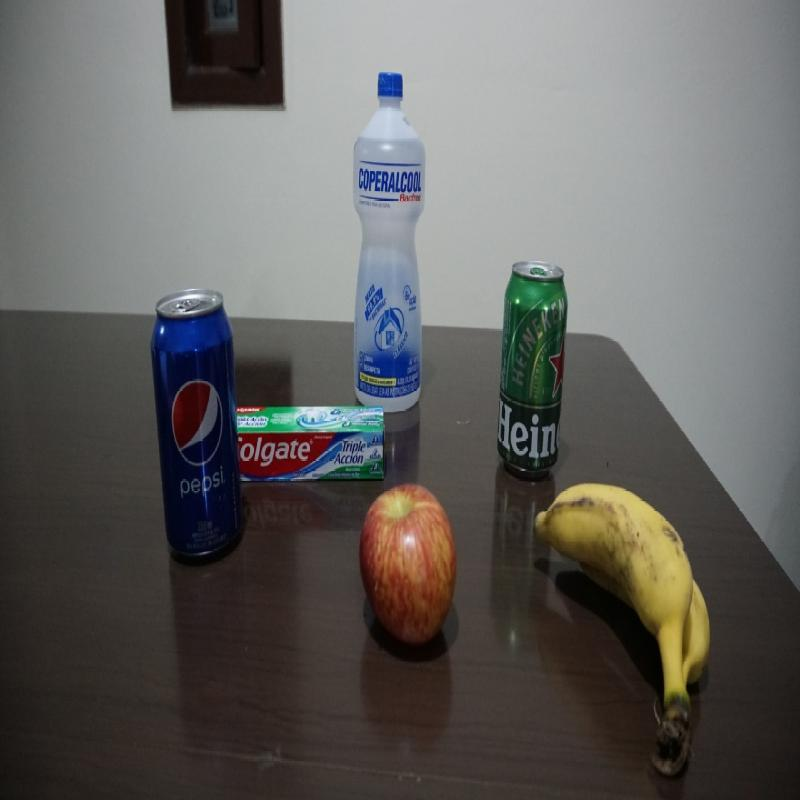Alcohol Bottle: (349, 68, 427, 412)
Apple: (359, 482, 458, 648)
Banana: (532, 480, 712, 781)
Beer can: (495, 258, 569, 480)
Soda can: (150, 288, 242, 569)
Toothpaste: (233, 404, 387, 486)
